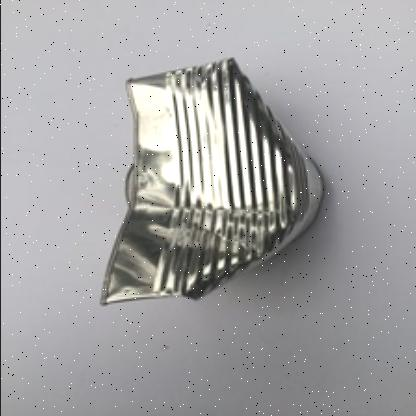Can: (99, 59, 329, 305)
